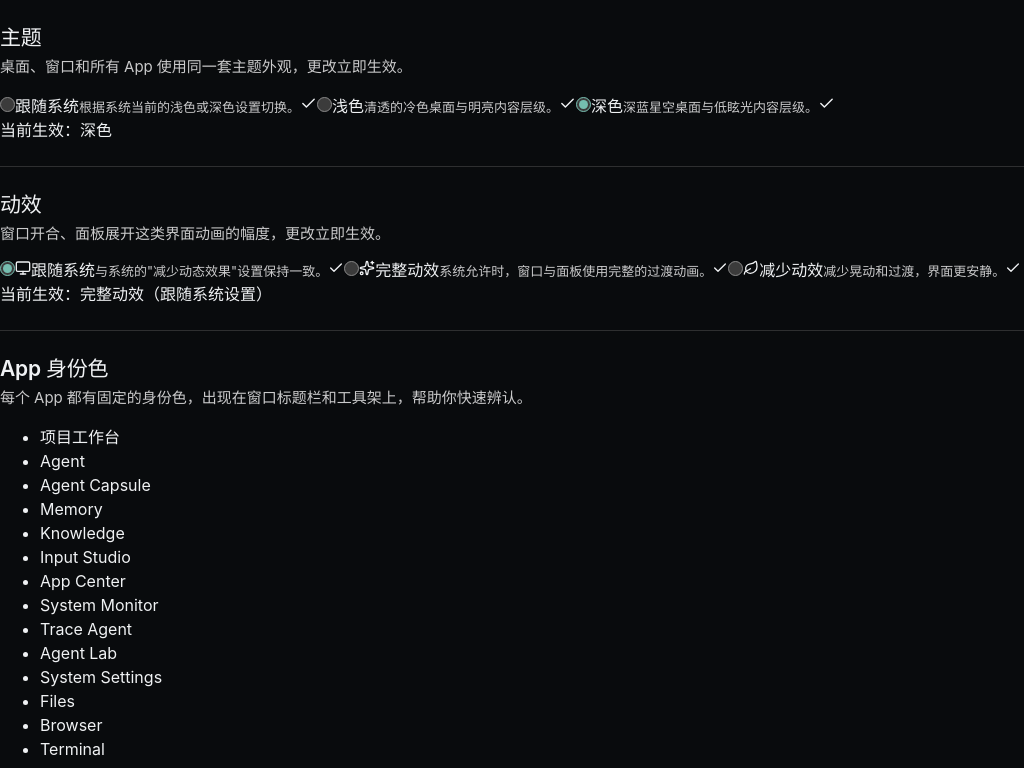
Test case: PAWOS appearance settings › offers system, light, and dark choices and reflects the resolved theme
Expected: the radio button showing "dark" is checked, [576,97,591,112]
Expected: the text "当前生效：深色" is shown, [0,120,112,140]
Click the radio button showing "light" at (324, 105), box [317,97,332,112]
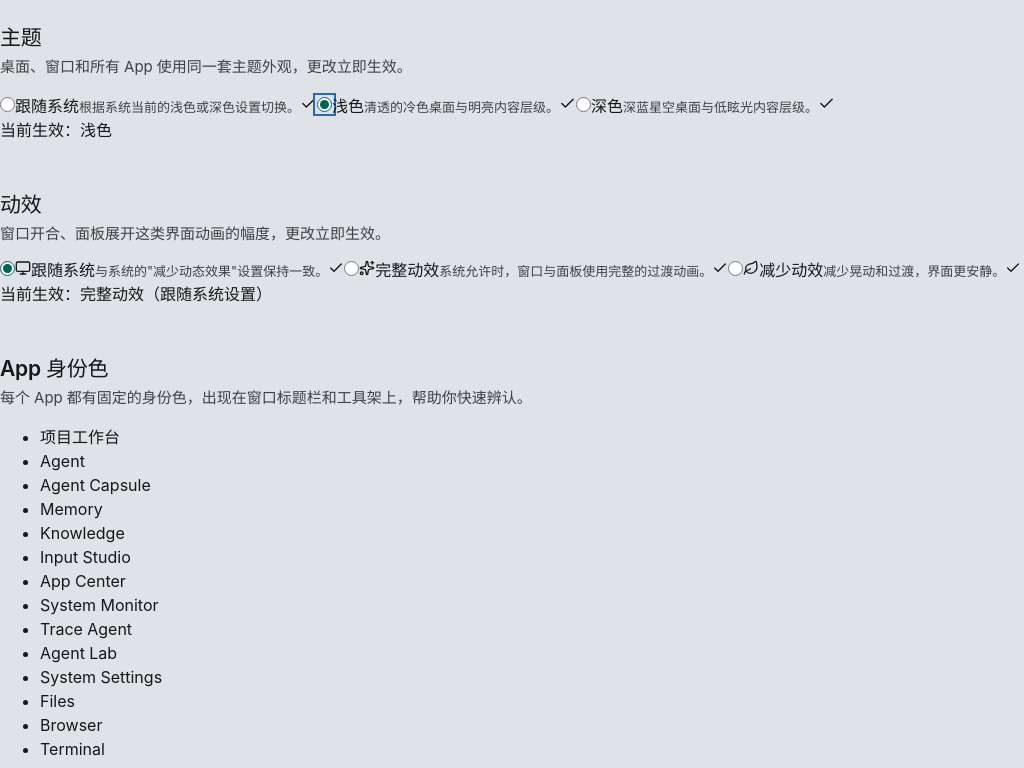
Now the radio button showing "light" is checked, box [317,97,332,112]
Click the radio button showing "system" at (8, 105), box [0,97,15,112]
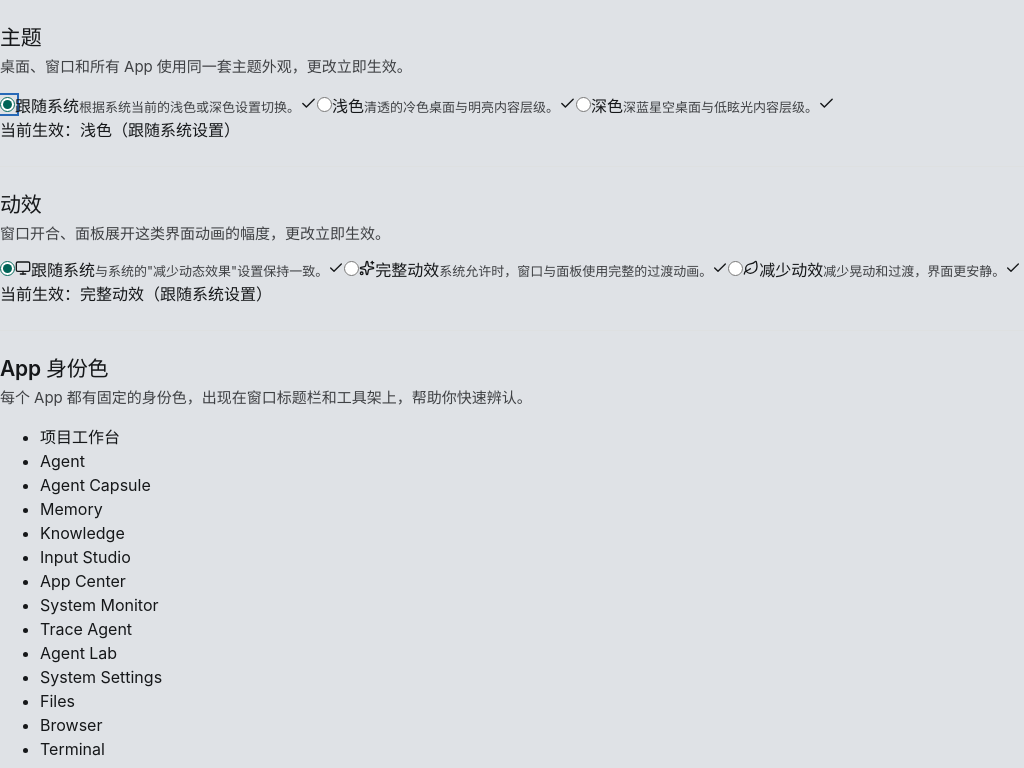
Now the text "当前生效：浅色（跟随系统设置）" is shown, box [0,120,240,140]
